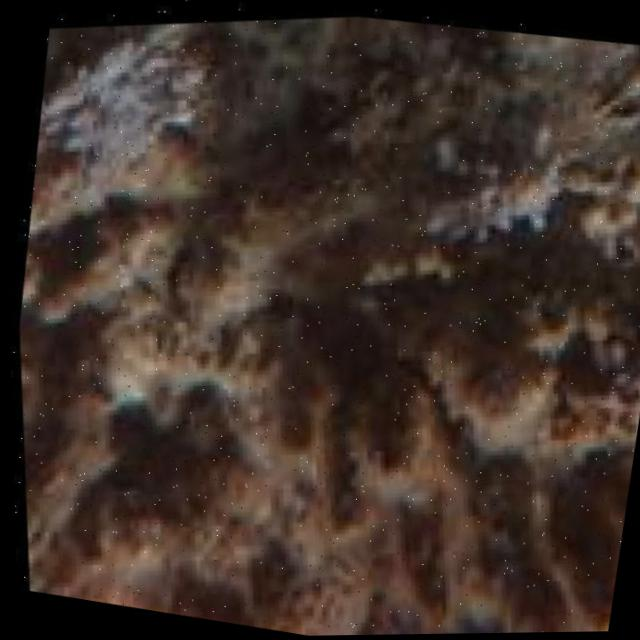Bleached Coral: (20, 0, 203, 200)
